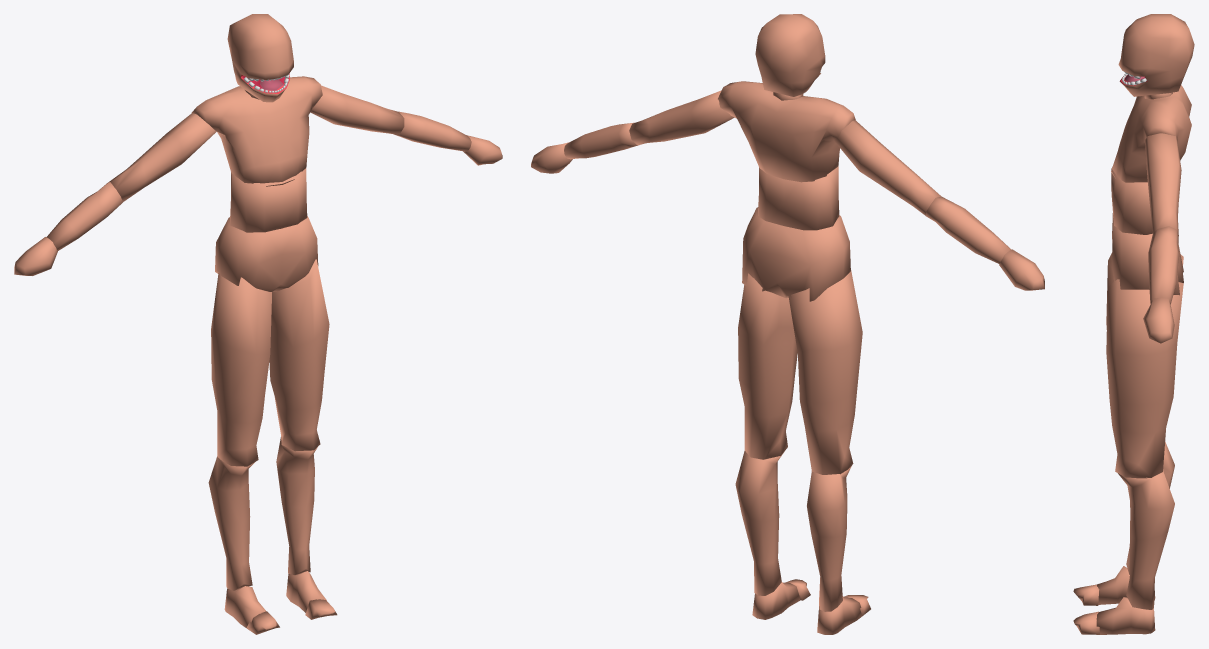
Rendered from titan_5m.fbx.
3 views of the same model, side by side, from view 1: azimuth 30°, elevation 25°; view 2: azimuth 150°, elevation 25°; view 3: azimuth 270°, elevation 25° (orthographic). The views are drawn at different scales.
Visible parts, largest first — view 1: Mesh.001; view 2: Mesh.001; view 3: Mesh.001.
Boxes of the visible parts, left/top/right/bottom form: Mesh.001: left=14, top=14, right=502, bottom=634; Mesh.001: left=531, top=14, right=1044, bottom=634; Mesh.001: left=1073, top=14, right=1194, bottom=634.
Size of the model in its own units: 443 by 503 by 92.63.
